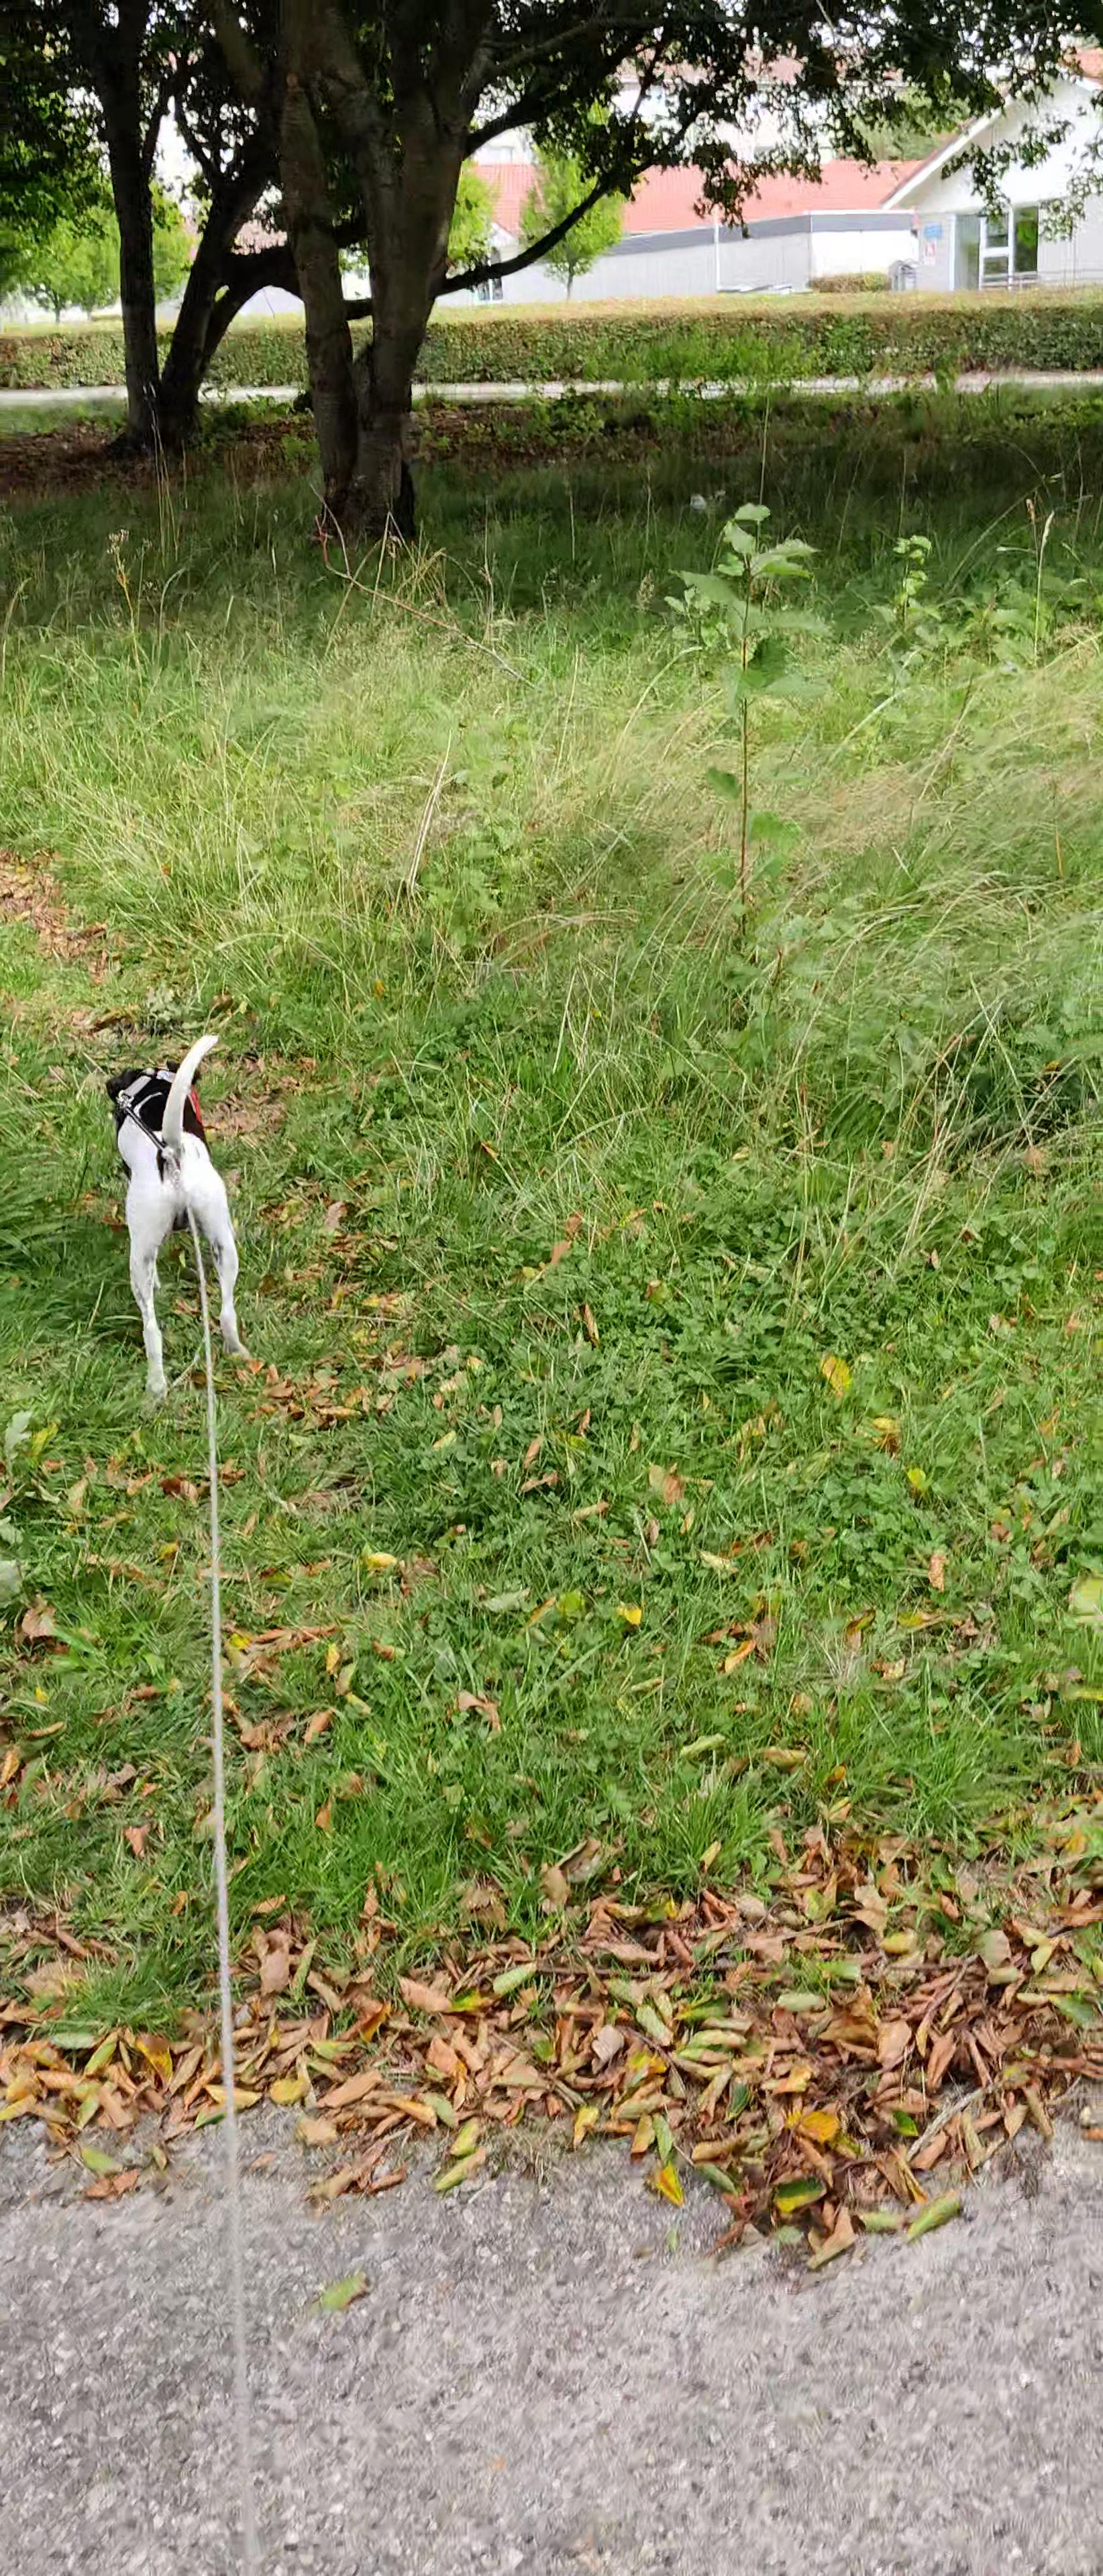Dog: (105, 1023, 255, 1405)
